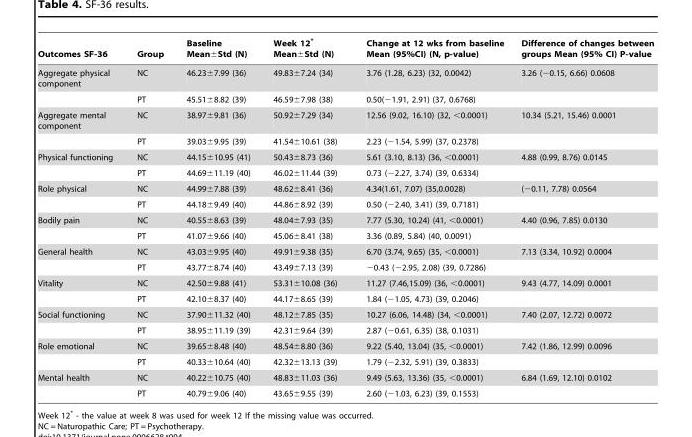table: (36, 36, 653, 397)
table column: (350, 36, 511, 397), (511, 36, 653, 397), (261, 36, 350, 397), (36, 36, 124, 397), (174, 36, 261, 397), (124, 36, 174, 397)
table column header: (36, 36, 653, 62)
table row: (36, 62, 653, 90), (36, 106, 653, 133), (36, 36, 653, 62), (36, 90, 653, 106), (36, 148, 653, 164), (36, 164, 653, 180), (36, 180, 653, 196), (36, 211, 653, 227), (36, 227, 653, 243), (36, 243, 653, 259), (36, 274, 653, 290), (36, 290, 653, 306), (36, 306, 653, 322), (36, 337, 653, 353), (36, 353, 653, 369), (36, 369, 653, 385), (36, 133, 653, 148), (36, 196, 653, 211), (36, 259, 653, 274), (36, 322, 653, 337), (36, 385, 653, 397)
table spanning cell: (36, 62, 124, 106), (36, 106, 124, 148), (36, 148, 124, 180), (36, 211, 124, 243), (36, 274, 124, 306), (36, 337, 124, 369), (36, 180, 124, 211), (36, 243, 124, 274), (36, 306, 124, 337), (36, 369, 124, 397)
